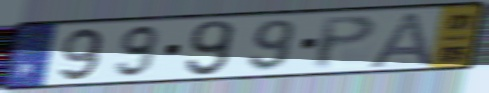9: (185, 18, 237, 77), (244, 17, 297, 73), (56, 26, 106, 82), (113, 23, 163, 79)
A: (363, 10, 436, 70)
P: (312, 13, 380, 71)
